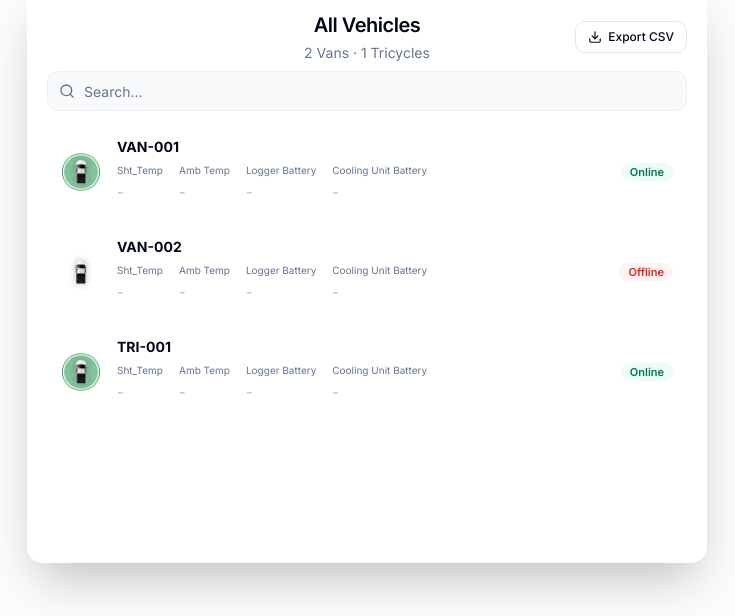
Test: VansListModal › filters the list to matching rows when typing a plate fragment
Type "VAN-001" into the field with placeholder "Search..." at coordinates (367, 91), box [47,71,687,111]
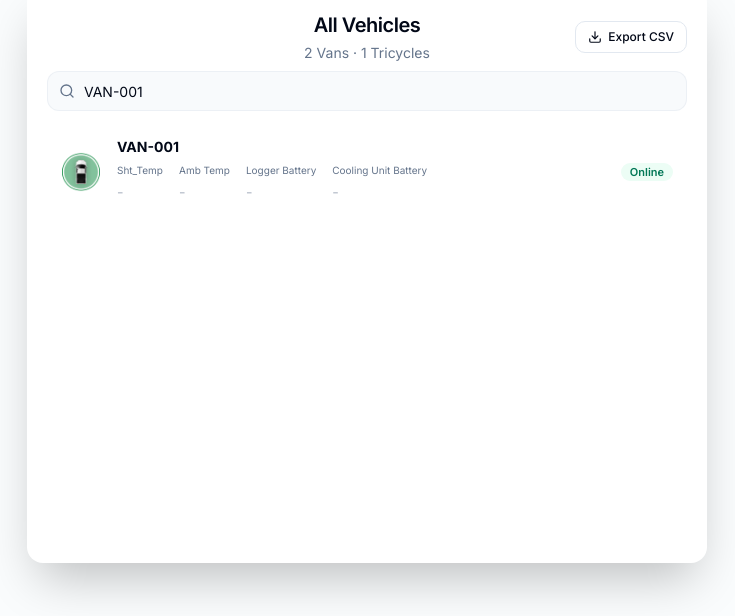
expect the text "VAN-001" is shown: met, box [117,137,179,157]
expect the button "VAN-002" is gone: met
expect the button "TRI-001" is gone: met
